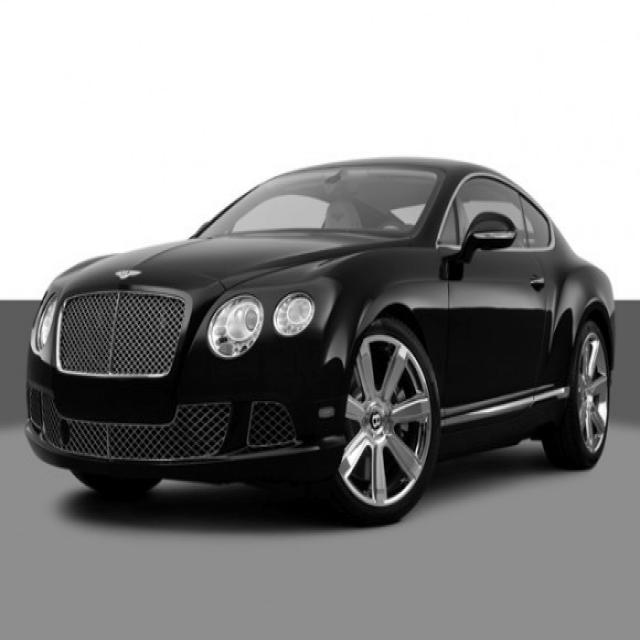car: (24, 154, 616, 527)
